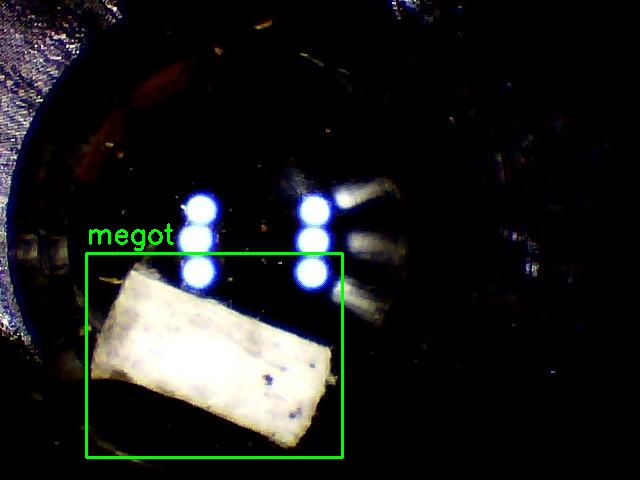megot: (86, 253, 342, 457)
